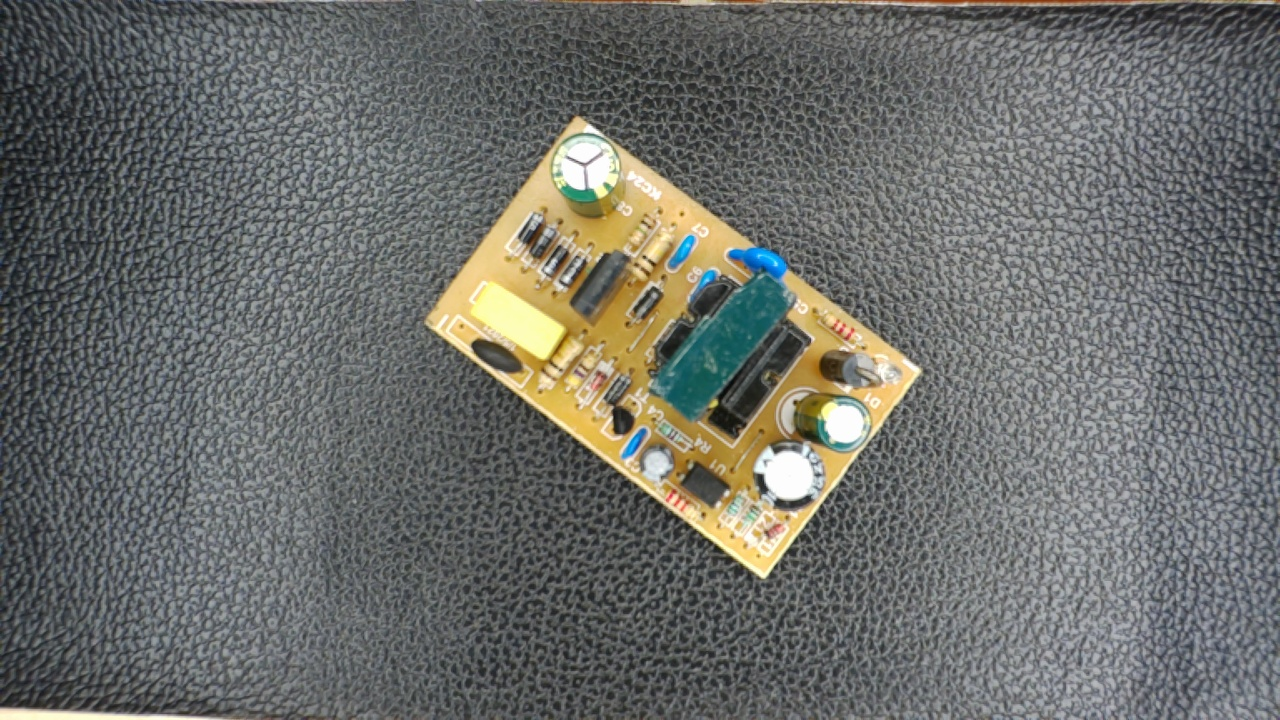fuse: (461, 336, 530, 378)
hv_capacitor: (552, 137, 623, 218)
mov: (720, 242, 791, 279)
optocoupler: (675, 462, 731, 507)
